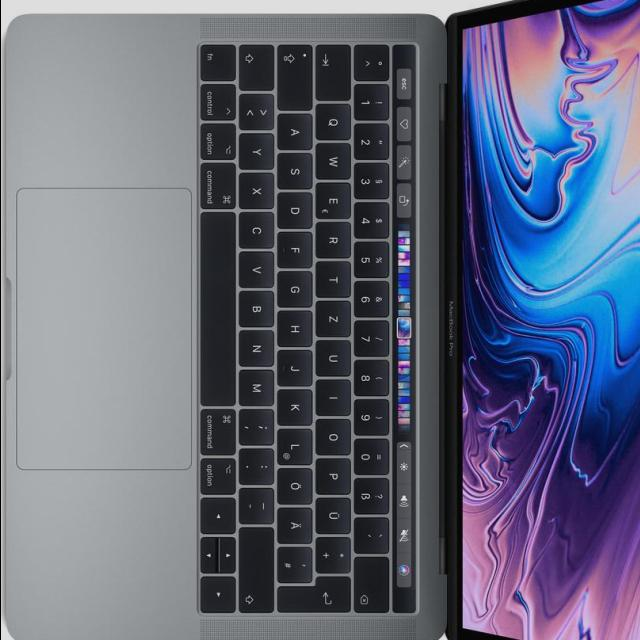0: (355, 436, 393, 475)
1: (356, 82, 393, 119)
2: (356, 121, 393, 159)
3: (355, 160, 393, 198)
4: (356, 200, 393, 237)
5: (356, 239, 392, 277)
6: (356, 278, 393, 316)
7: (356, 318, 392, 355)
8: (355, 357, 392, 395)
9: (356, 396, 392, 435)
a: (279, 111, 316, 148)
accent: (357, 515, 393, 551)
ae: (279, 505, 316, 542)
alt-left: (201, 121, 239, 160)
altgr-right: (202, 455, 239, 494)
b: (240, 288, 277, 326)
c: (240, 209, 277, 247)
caret: (356, 42, 392, 79)
comma: (240, 406, 278, 444)
d: (279, 190, 316, 228)
del: (356, 554, 393, 612)
e: (317, 180, 354, 217)
enter: (279, 574, 354, 613)
f: (279, 229, 316, 266)
g: (279, 268, 316, 305)
h: (279, 308, 316, 345)
hash: (279, 544, 316, 582)
i: (318, 377, 354, 414)
j: (279, 348, 316, 384)
k: (279, 387, 316, 424)
keyboard: (193, 34, 422, 624)
l: (279, 427, 316, 464)
less: (241, 91, 277, 129)
m: (240, 366, 278, 405)
minus: (241, 484, 277, 522)
n: (240, 327, 277, 365)
o: (317, 416, 354, 453)
oe: (278, 465, 315, 503)
p: (317, 456, 354, 493)
plus: (318, 534, 354, 572)
point: (241, 445, 277, 483)
q: (317, 101, 354, 139)
r: (317, 220, 354, 257)
s: (279, 150, 315, 188)
shift-left: (240, 42, 277, 90)
shift-lock: (279, 41, 315, 109)
shift-right: (240, 525, 278, 612)
space: (202, 209, 239, 404)
ss: (356, 475, 393, 513)
strg-left: (201, 82, 239, 120)
t: (318, 259, 354, 296)
tab: (317, 42, 354, 99)
u: (317, 337, 354, 375)
ue: (317, 495, 354, 532)
v: (240, 249, 278, 287)
w: (317, 141, 355, 178)
x: (240, 171, 277, 208)
y: (240, 131, 277, 168)
z: (317, 298, 354, 336)
